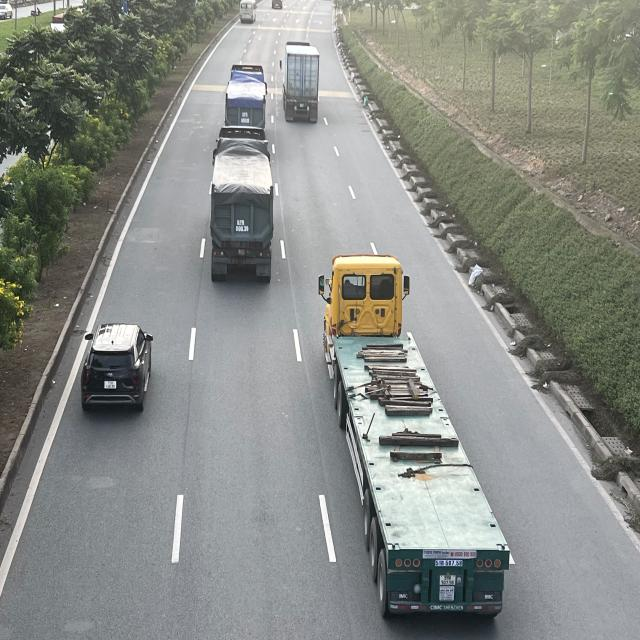car: (79, 321, 154, 412)
container: (317, 253, 510, 616), (210, 125, 276, 281), (279, 40, 320, 122), (226, 64, 268, 128)
van: (238, 0, 258, 22)
